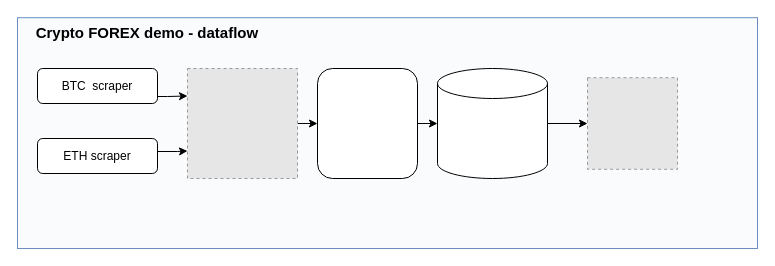
Image size: 775x266. Some labels were removed from this diagram. Grey dashed boxes stand in for pictures. The centre of each missing label's shape, as x and y in pixels:
"Kafka Connect wrapper" goes at point (367, 123).
"PostgreSQL" goes at point (492, 123).
